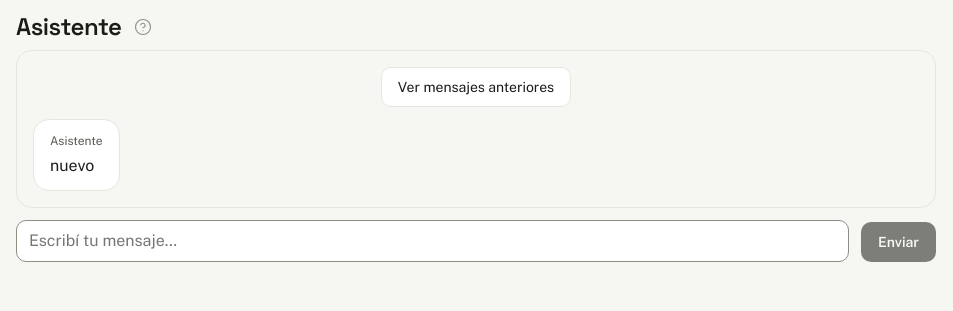
Test: InternalAgentChatPage › 'Ver mensajes anteriores' pide la página siguiente y la antepone
The width and height of the screenshot is (953, 311).
Step 1. Click the button "Ver mensajes anteriores" → click(476, 87), box [381,67,571,107]
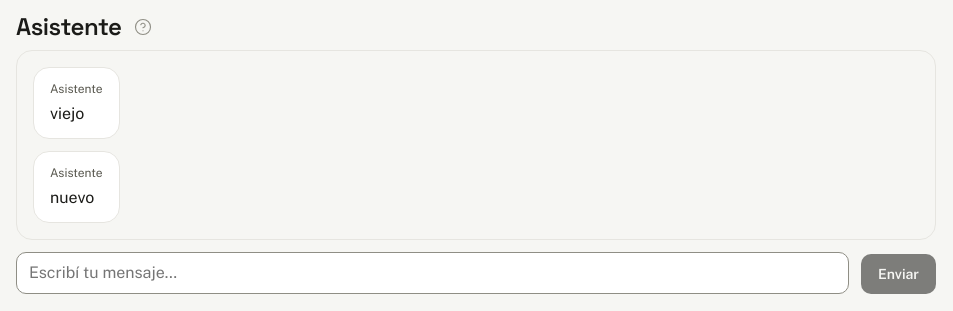
Expected: the button "Ver mensajes anteriores" is gone
